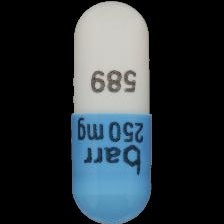54868-5464: (0, 0, 224, 224)
